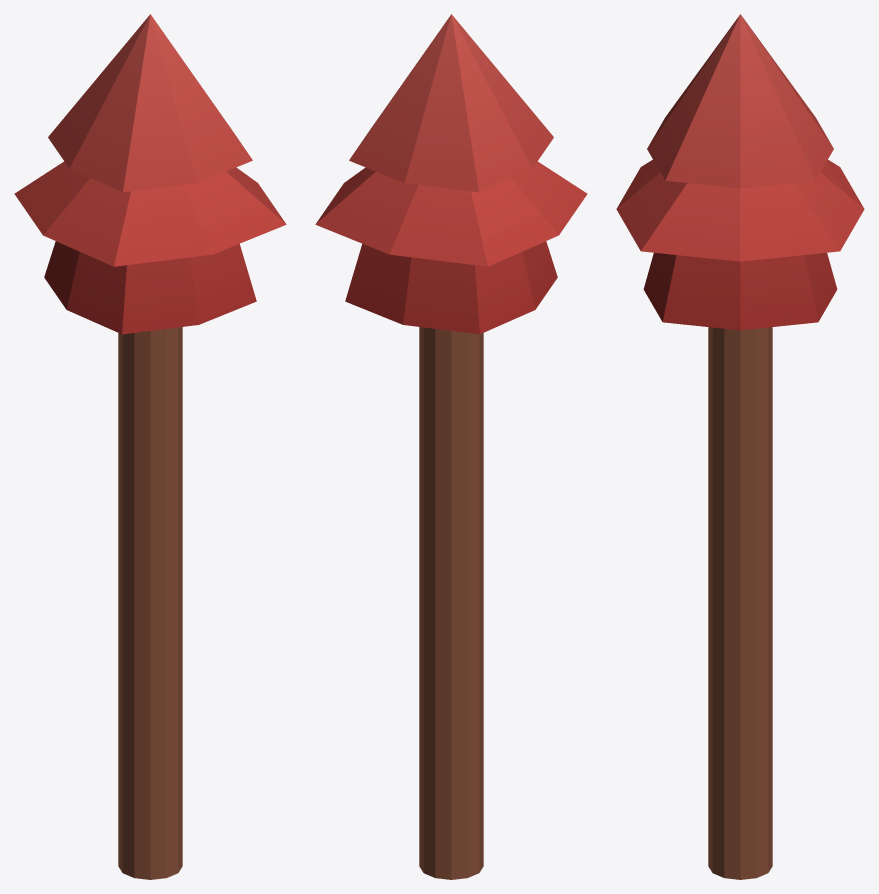
File: Tree_20_gradient_red_pal.fbx
3 renders of one model, left to right at view 1: azimuth 30°, elevation 25°; view 2: azimuth 150°, elevation 25°; view 3: azimuth 270°, elevation 25°, orthographic.
Visible parts, largest first — view 1: Tree_20_gradient_red_pal; view 2: Tree_20_gradient_red_pal; view 3: Tree_20_gradient_red_pal.
Boxes of the visible parts, left/top/right/bottom form: Tree_20_gradient_red_pal: left=14, top=14, right=286, bottom=879; Tree_20_gradient_red_pal: left=315, top=14, right=587, bottom=879; Tree_20_gradient_red_pal: left=616, top=14, right=864, bottom=879.
Size of the model in its own units: 85.54 by 324 by 85.54.
